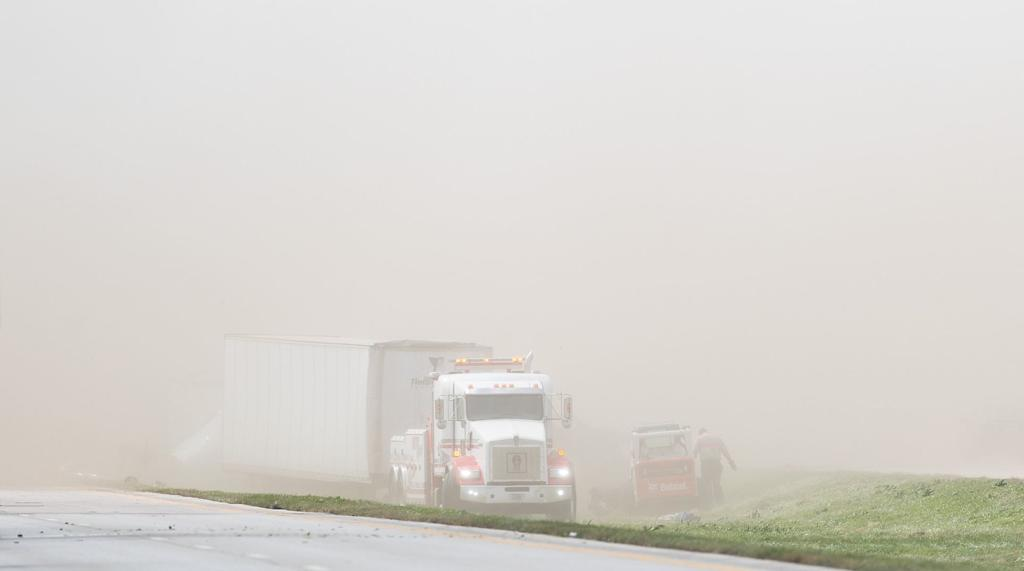person: (694, 423, 737, 515)
truck: (221, 323, 577, 528), (589, 424, 700, 513)
